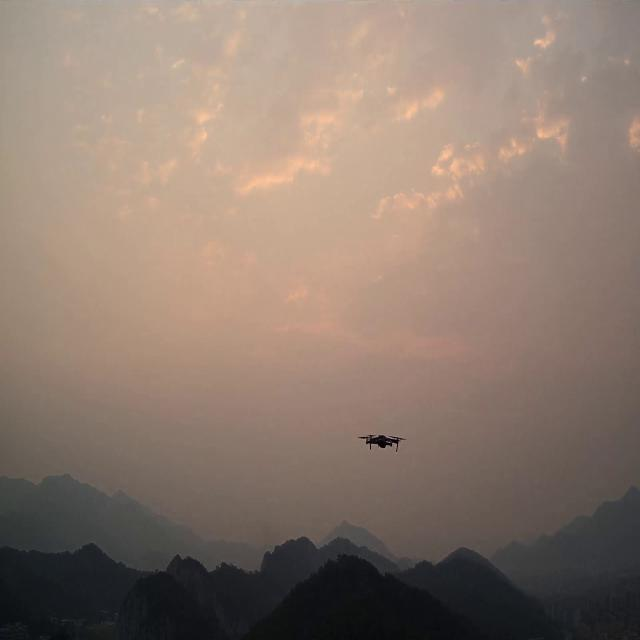UAV: (358, 433, 407, 451)
